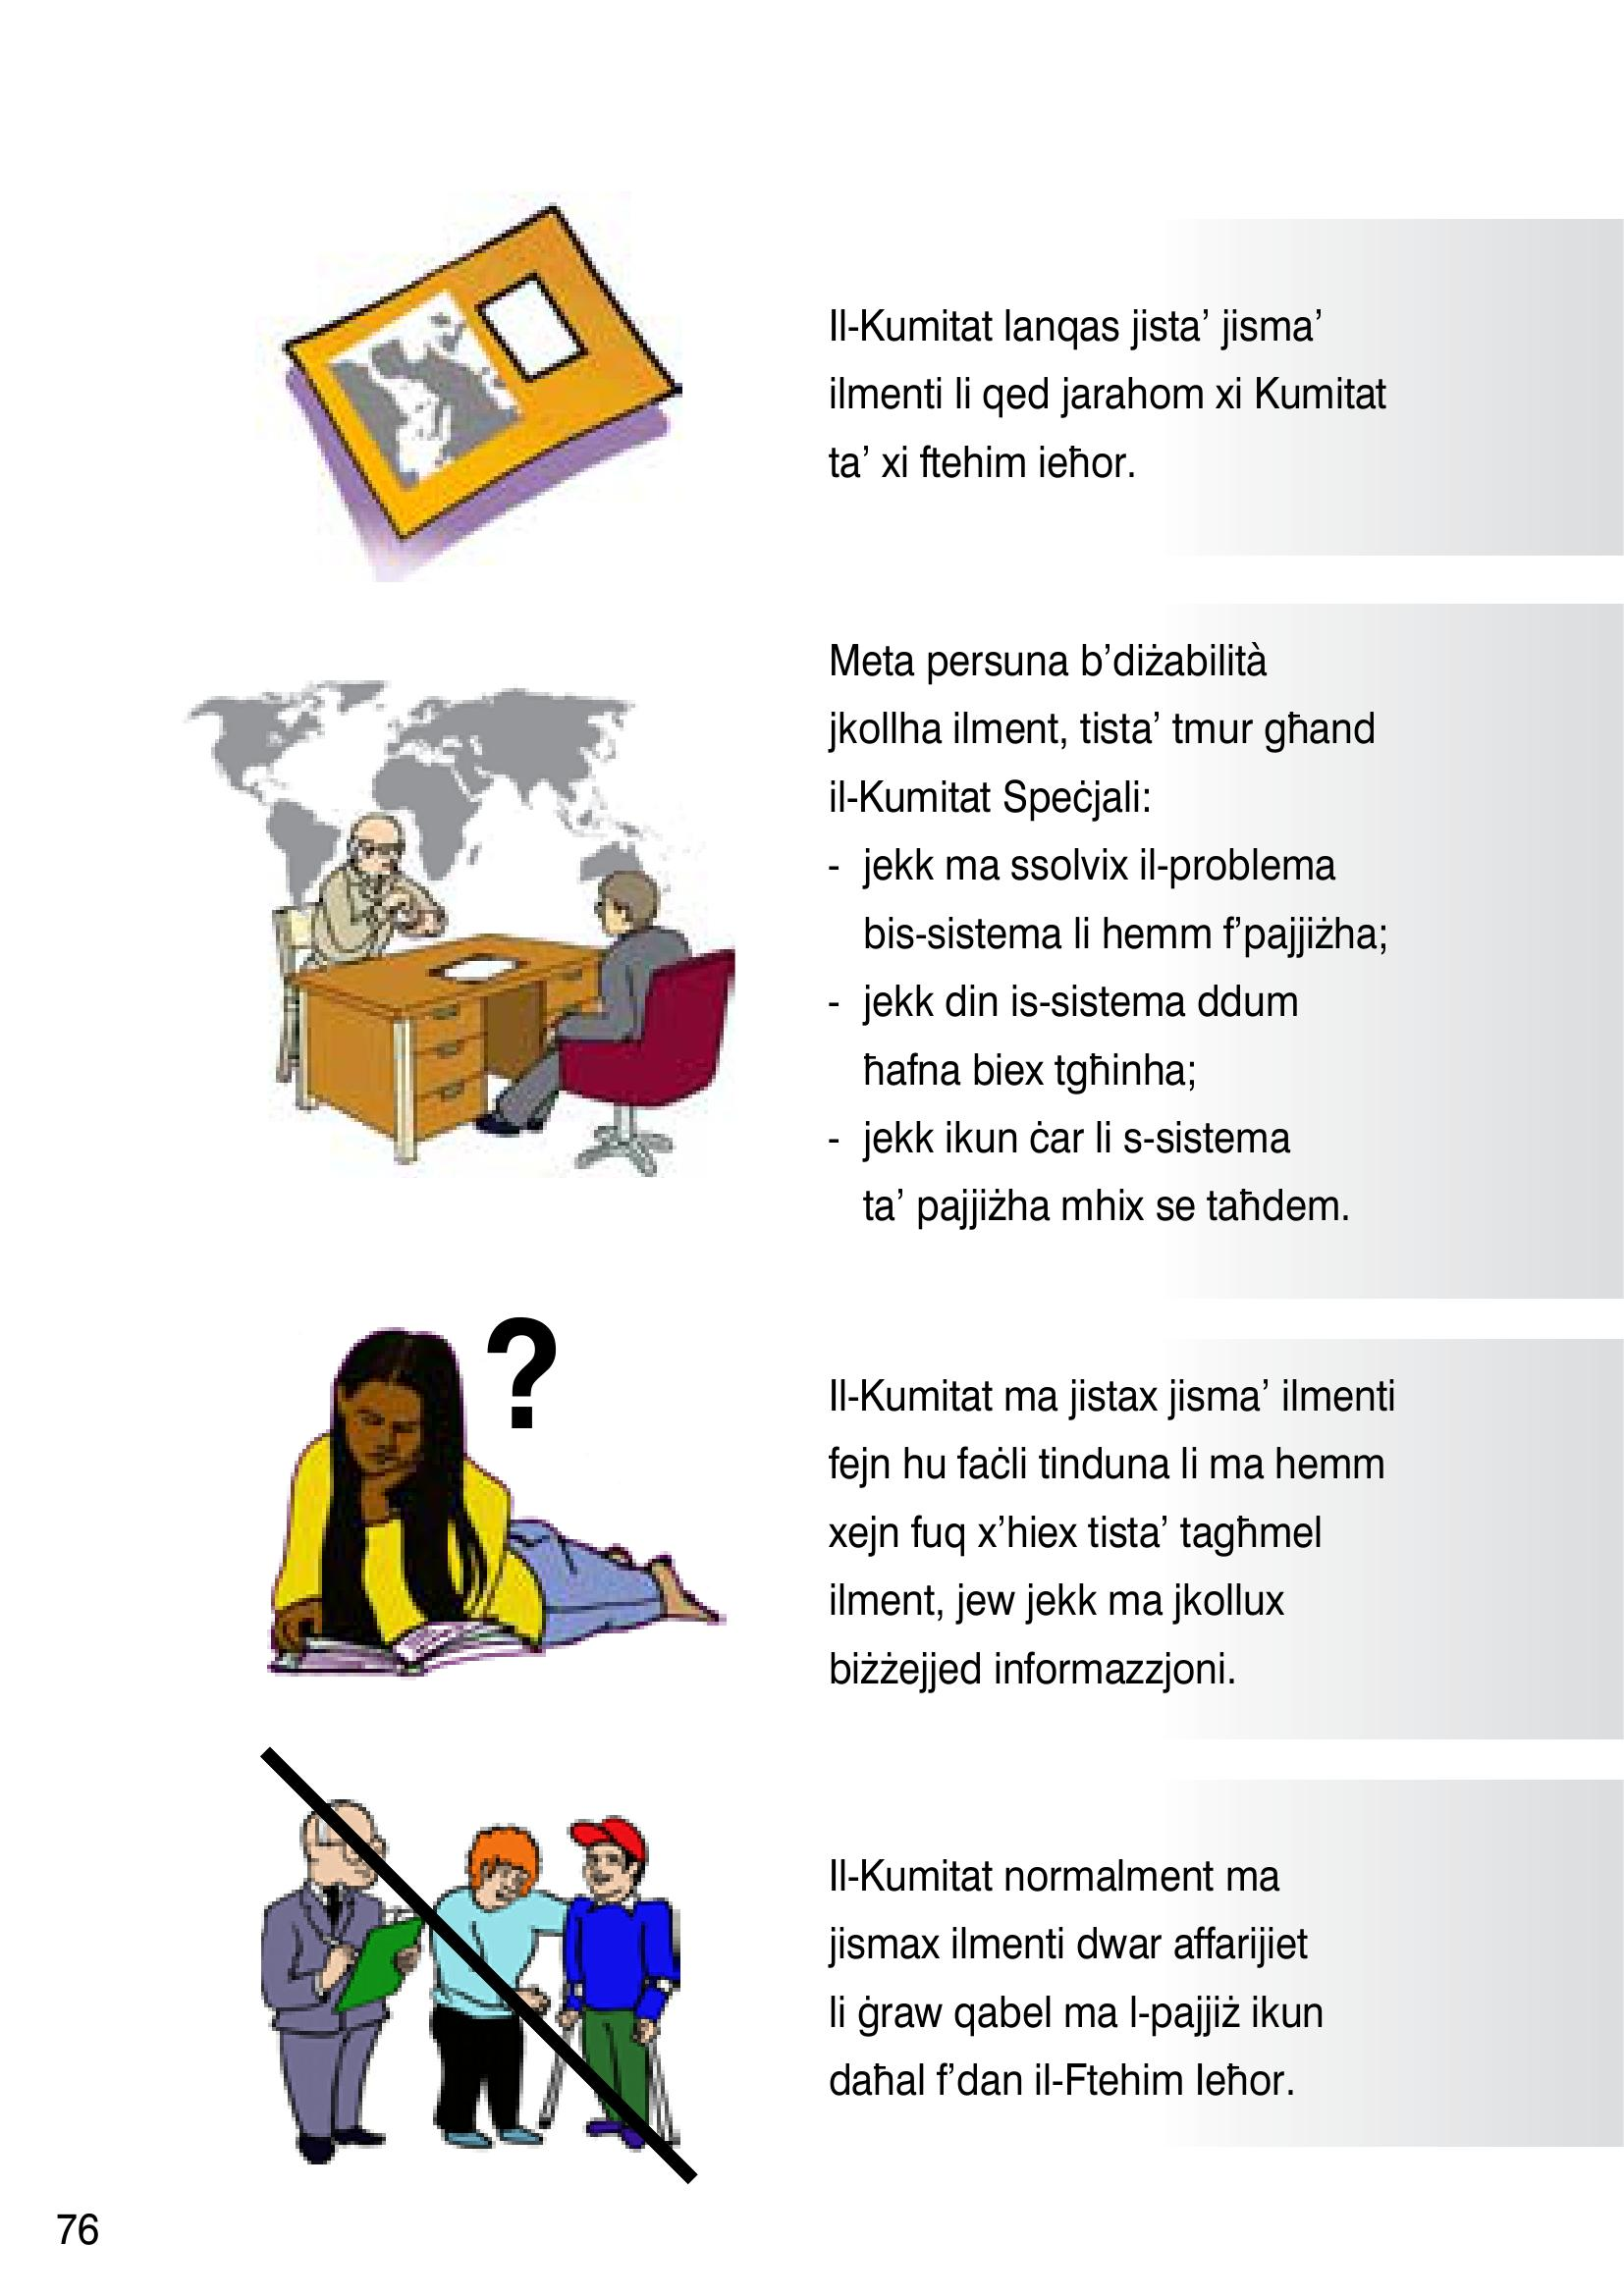text: (796, 274, 1476, 2134)
